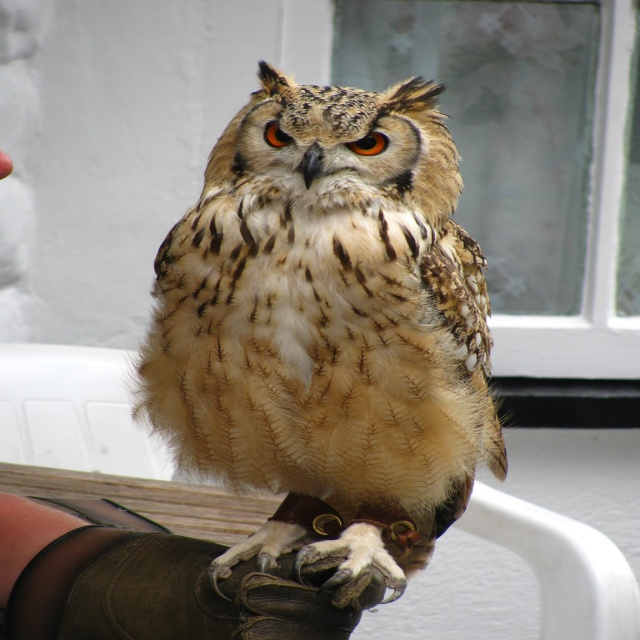Owl: (121, 57, 511, 625)
